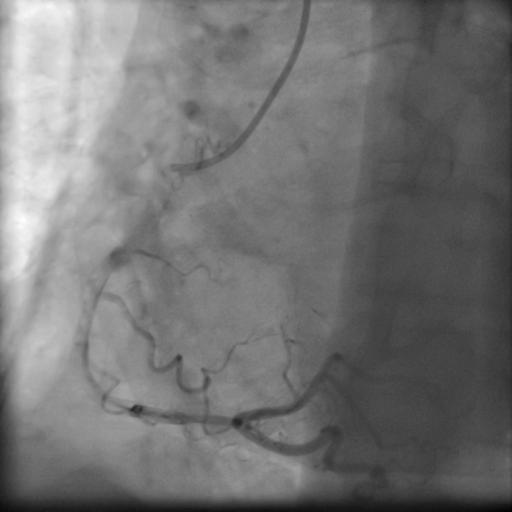Stenosis: (185, 408, 236, 442)
